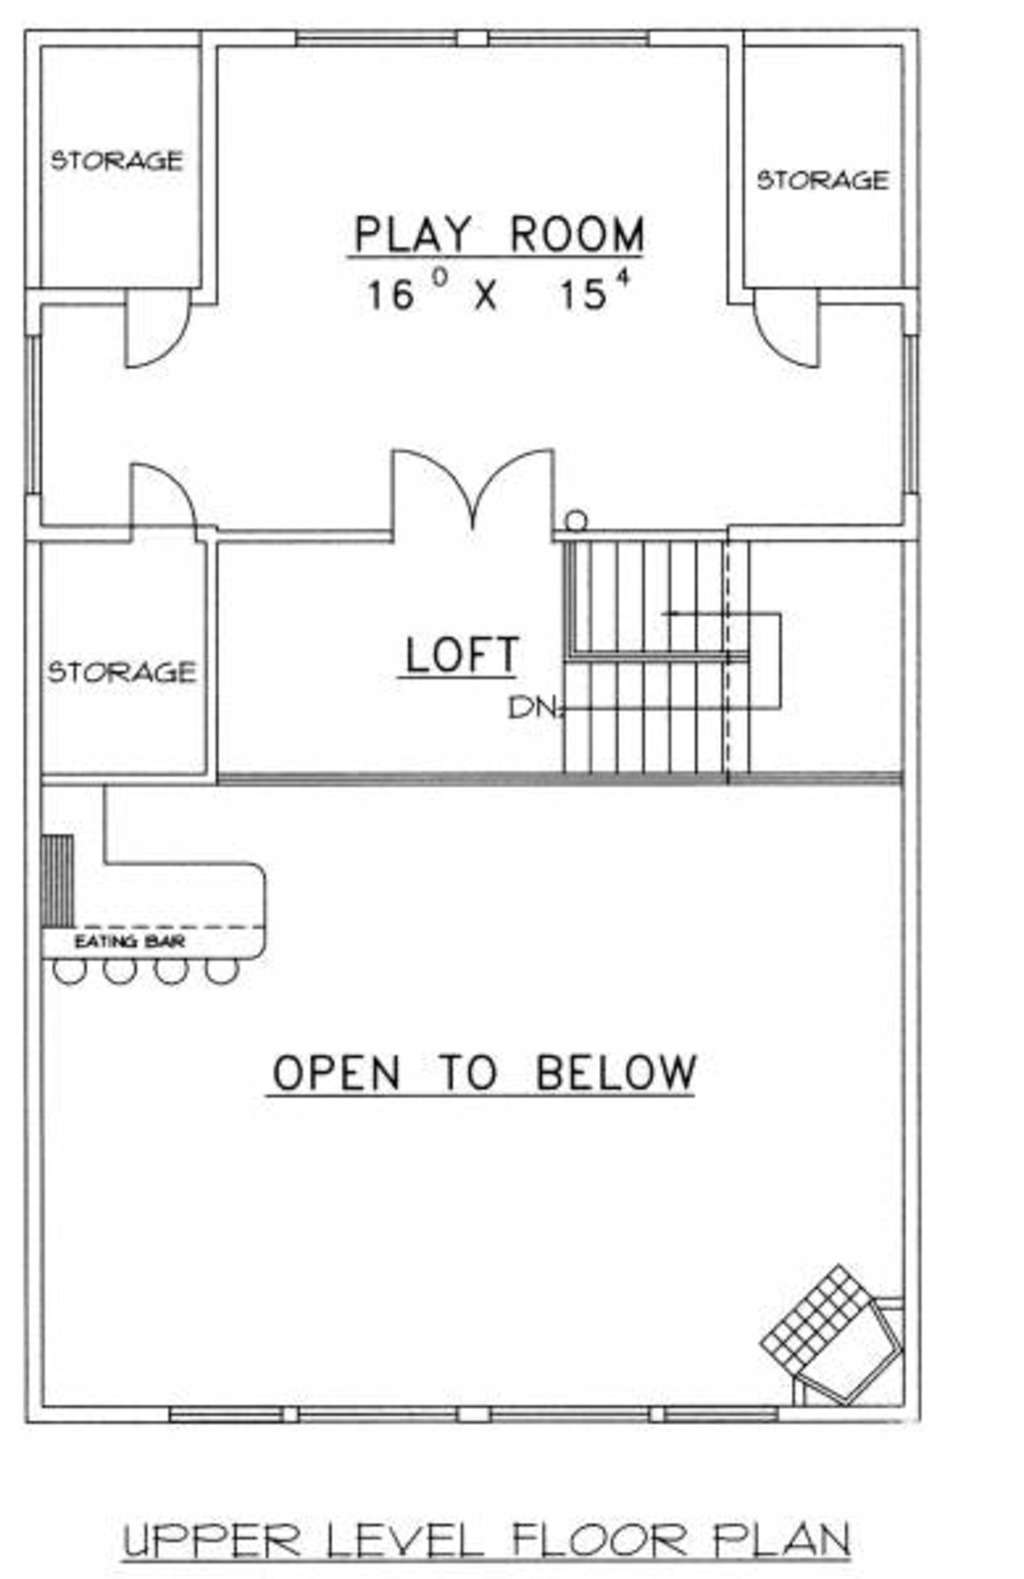door: (381, 415, 555, 533), (120, 277, 215, 397), (756, 280, 851, 387), (117, 460, 205, 548)
stairs: (549, 519, 866, 777)
window: (161, 1399, 298, 1441), (17, 326, 51, 494), (303, 1397, 466, 1428), (488, 21, 651, 49), (298, 21, 456, 49), (888, 323, 912, 489), (483, 1404, 645, 1421), (666, 1404, 790, 1426)
